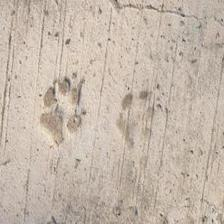dog: (35, 74, 87, 147)
